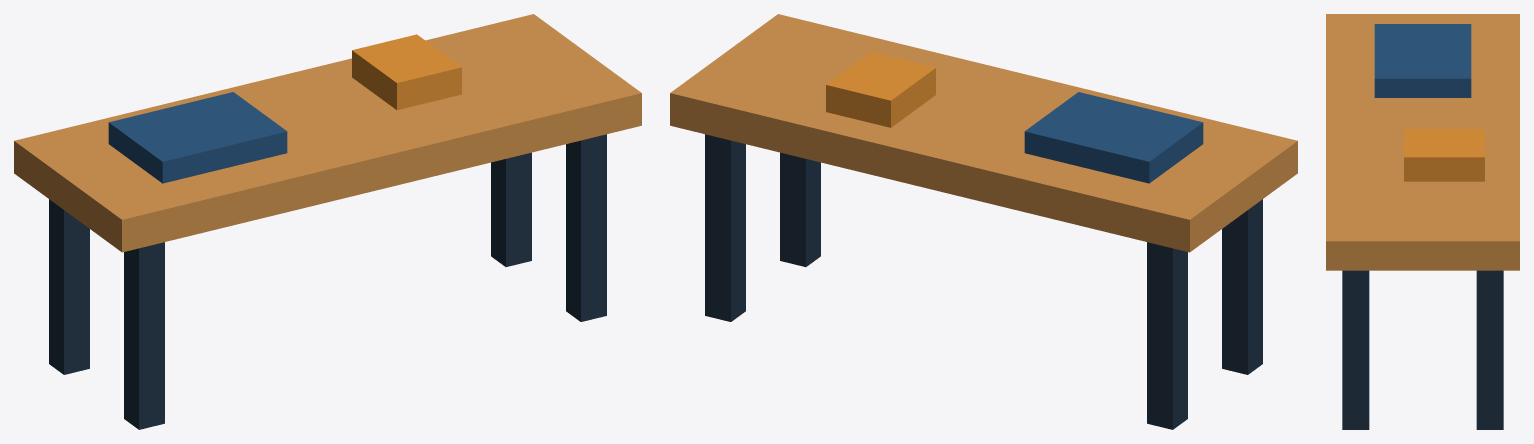
File: bench.glb
3 views of the same model, side by side, from view 1: azimuth 30°, elevation 25°; view 2: azimuth 150°, elevation 25°; view 3: azimuth 270°, elevation 25° (orthographic). The views are drawn at different scales.
Parts seen in each view (by area): view 1: Shared_bench; view 2: Shared_bench; view 3: Shared_bench.
Boxes of the visible parts, left/top/right/bottom form: Shared_bench: left=14, top=14, right=641, bottom=429; Shared_bench: left=670, top=14, right=1297, bottom=429; Shared_bench: left=1326, top=14, right=1519, bottom=429.
Bounding box in the file's own units: 2 × 0.92 × 0.72.
